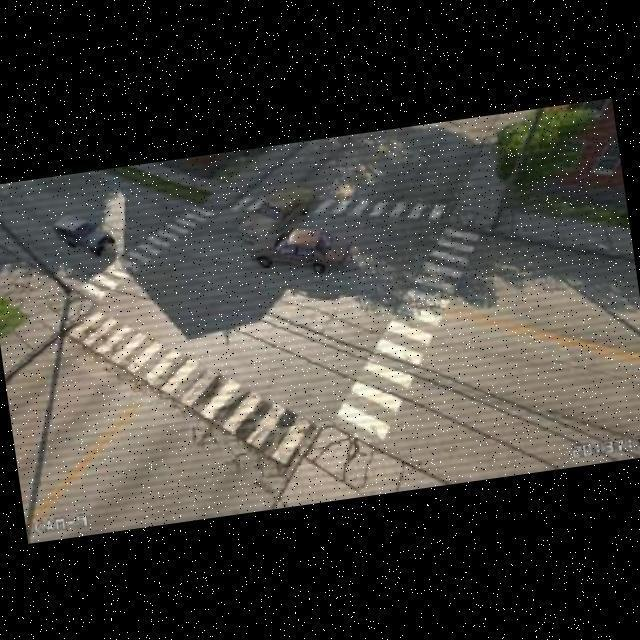accident: (238, 193, 318, 271)
